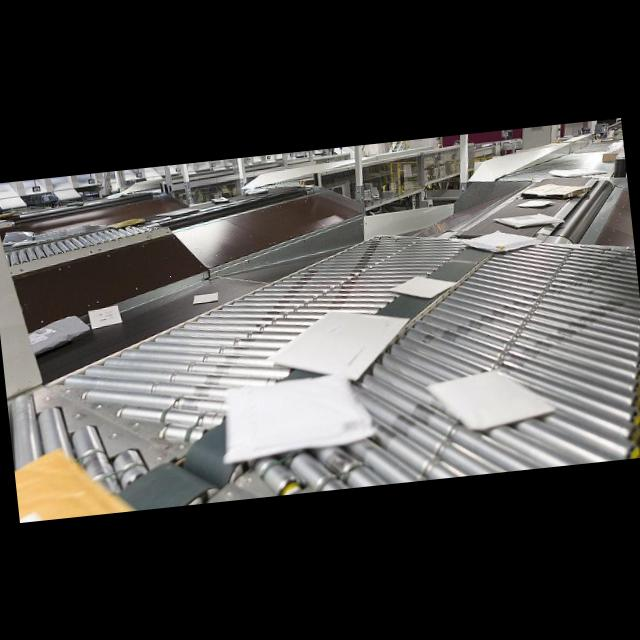box: (521, 183, 589, 197)
mailer: (223, 376, 372, 463), (269, 312, 408, 380), (426, 370, 555, 429), (30, 316, 90, 354), (462, 230, 540, 251), (391, 277, 453, 297), (494, 213, 564, 228), (88, 305, 122, 327), (549, 168, 604, 177), (193, 292, 218, 303), (517, 199, 554, 206)
